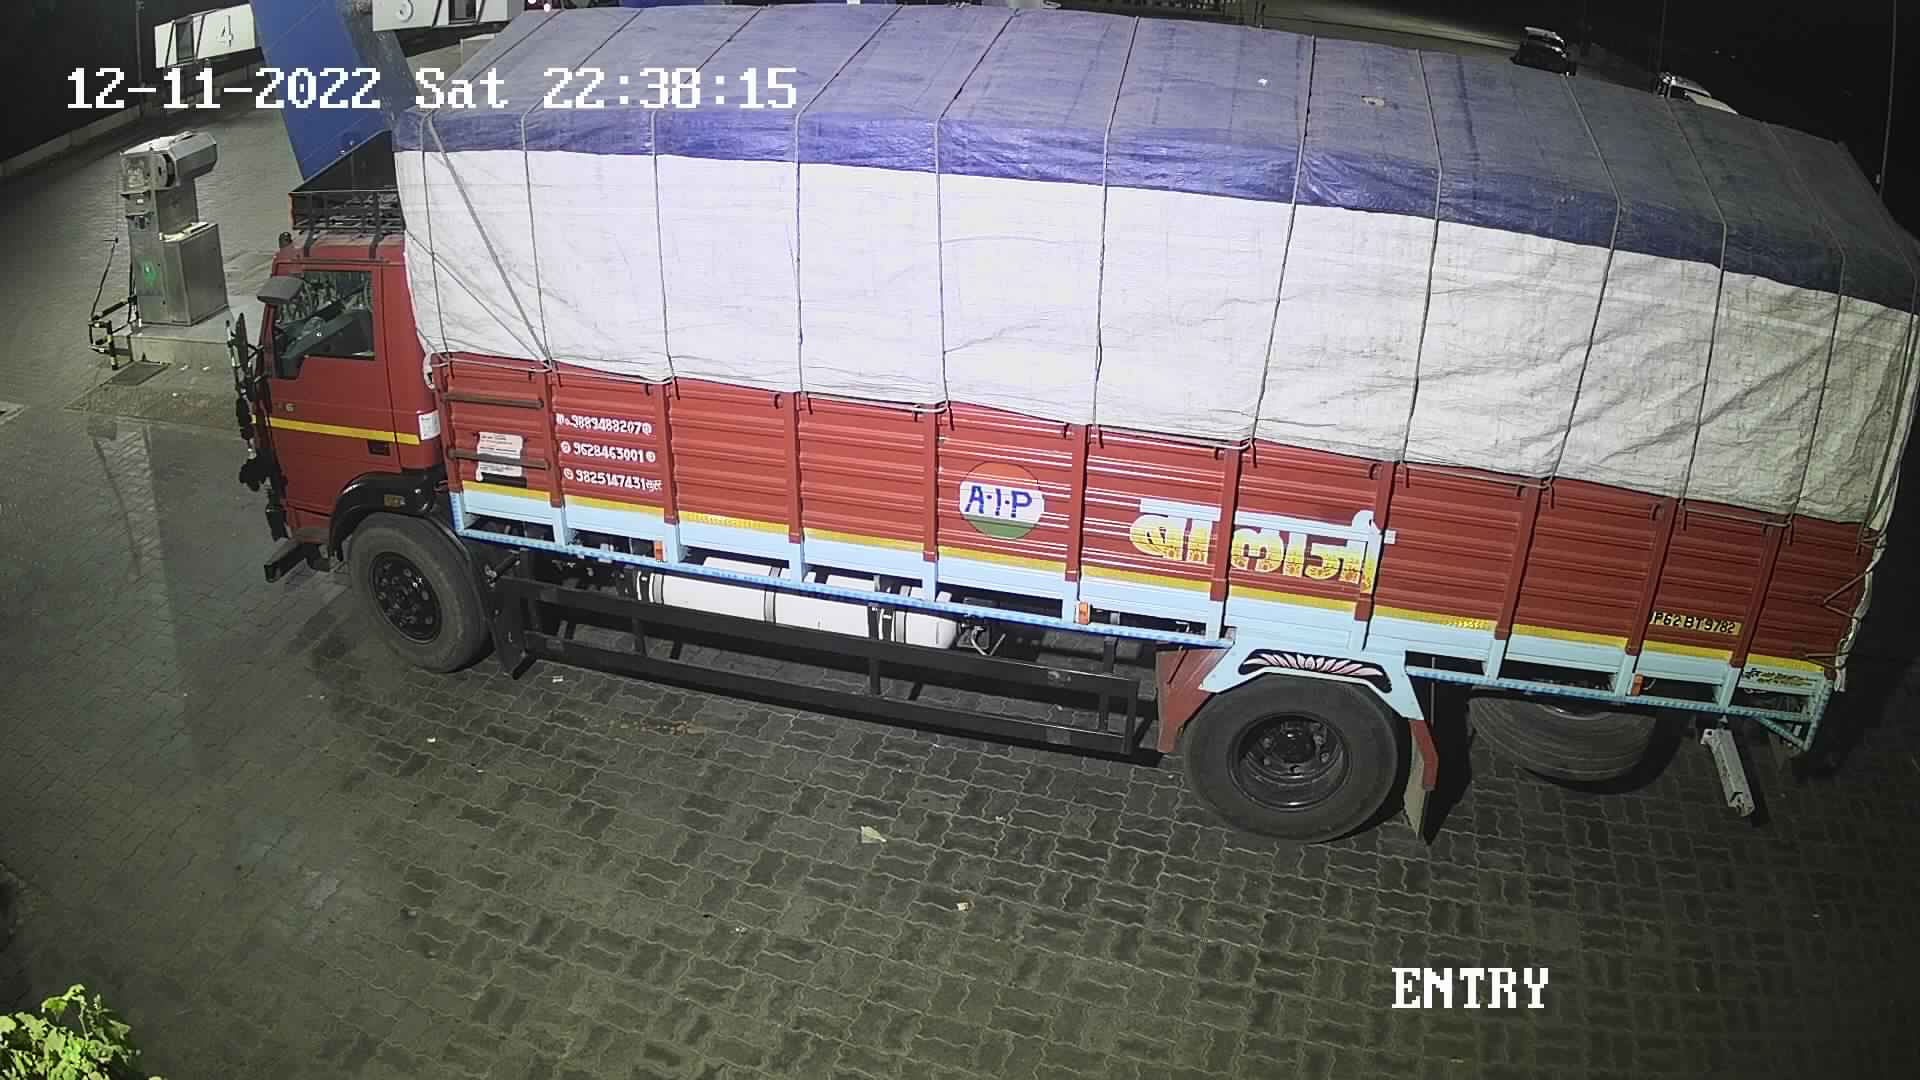HMV: (195, 0, 1917, 860)
